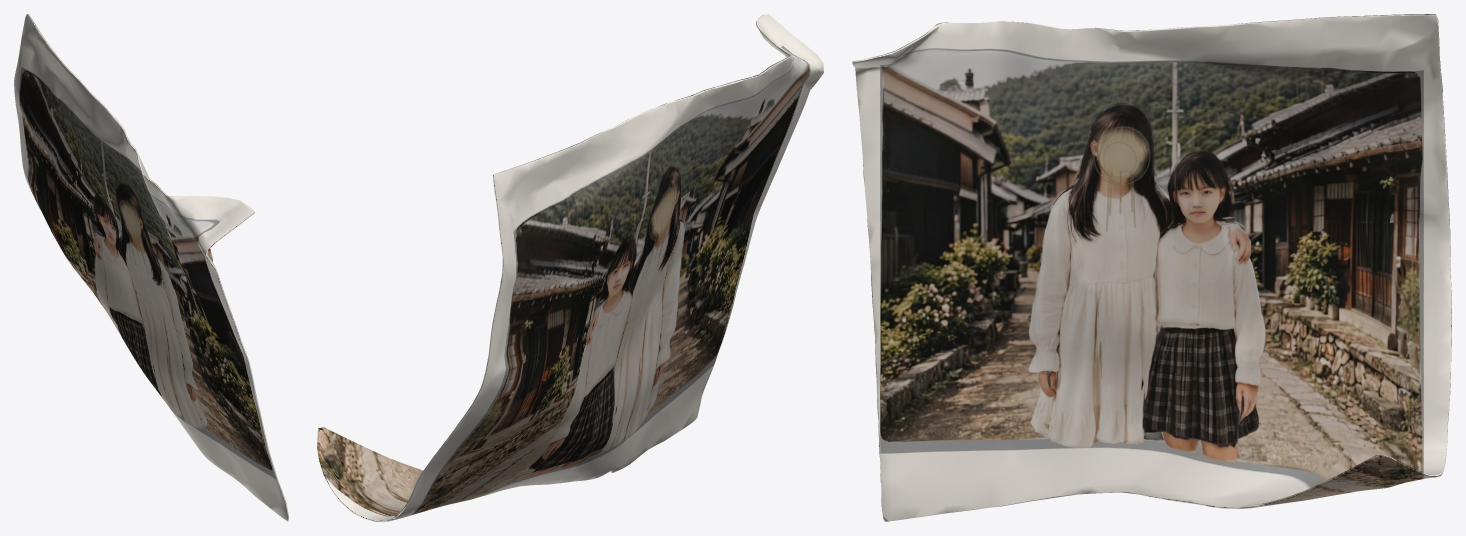
Rendered from photo-symbol.glb.
3 renders of one model, left to right at view 1: azimuth 30°, elevation 25°; view 2: azimuth 150°, elevation 25°; view 3: azimuth 270°, elevation 25°, orthographic. The views are drawn at different scales.
Visible parts, largest first — view 1: tripo_node_1c18b3ef-d8f2-4885-825f-5d640e6a8641; view 2: tripo_node_1c18b3ef-d8f2-4885-825f-5d640e6a8641; view 3: tripo_node_1c18b3ef-d8f2-4885-825f-5d640e6a8641.
Part boxes in pixels (box(x1,y1,x2,y2)): tripo_node_1c18b3ef-d8f2-4885-825f-5d640e6a8641: box(14, 14, 288, 521); tripo_node_1c18b3ef-d8f2-4885-825f-5d640e6a8641: box(317, 14, 823, 521); tripo_node_1c18b3ef-d8f2-4885-825f-5d640e6a8641: box(852, 14, 1451, 521).
Bounding box in the file's own units: 0.5351 × 0.8762 × 1.
Materials: 1 (1 with a texture image).
